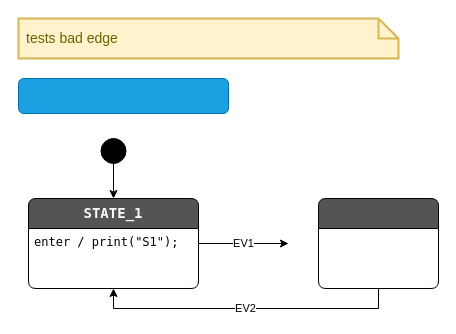
Image size: 456x334. Some labels were removed from this diagram. Each missing label, with the centre of its shape:
$STATEMACHINE : MySm: the point at 123,96
STATE_2: the point at 378,243
